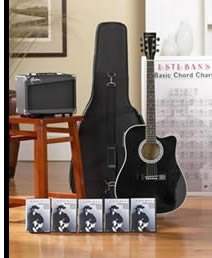guitar: (112, 30, 188, 215)
